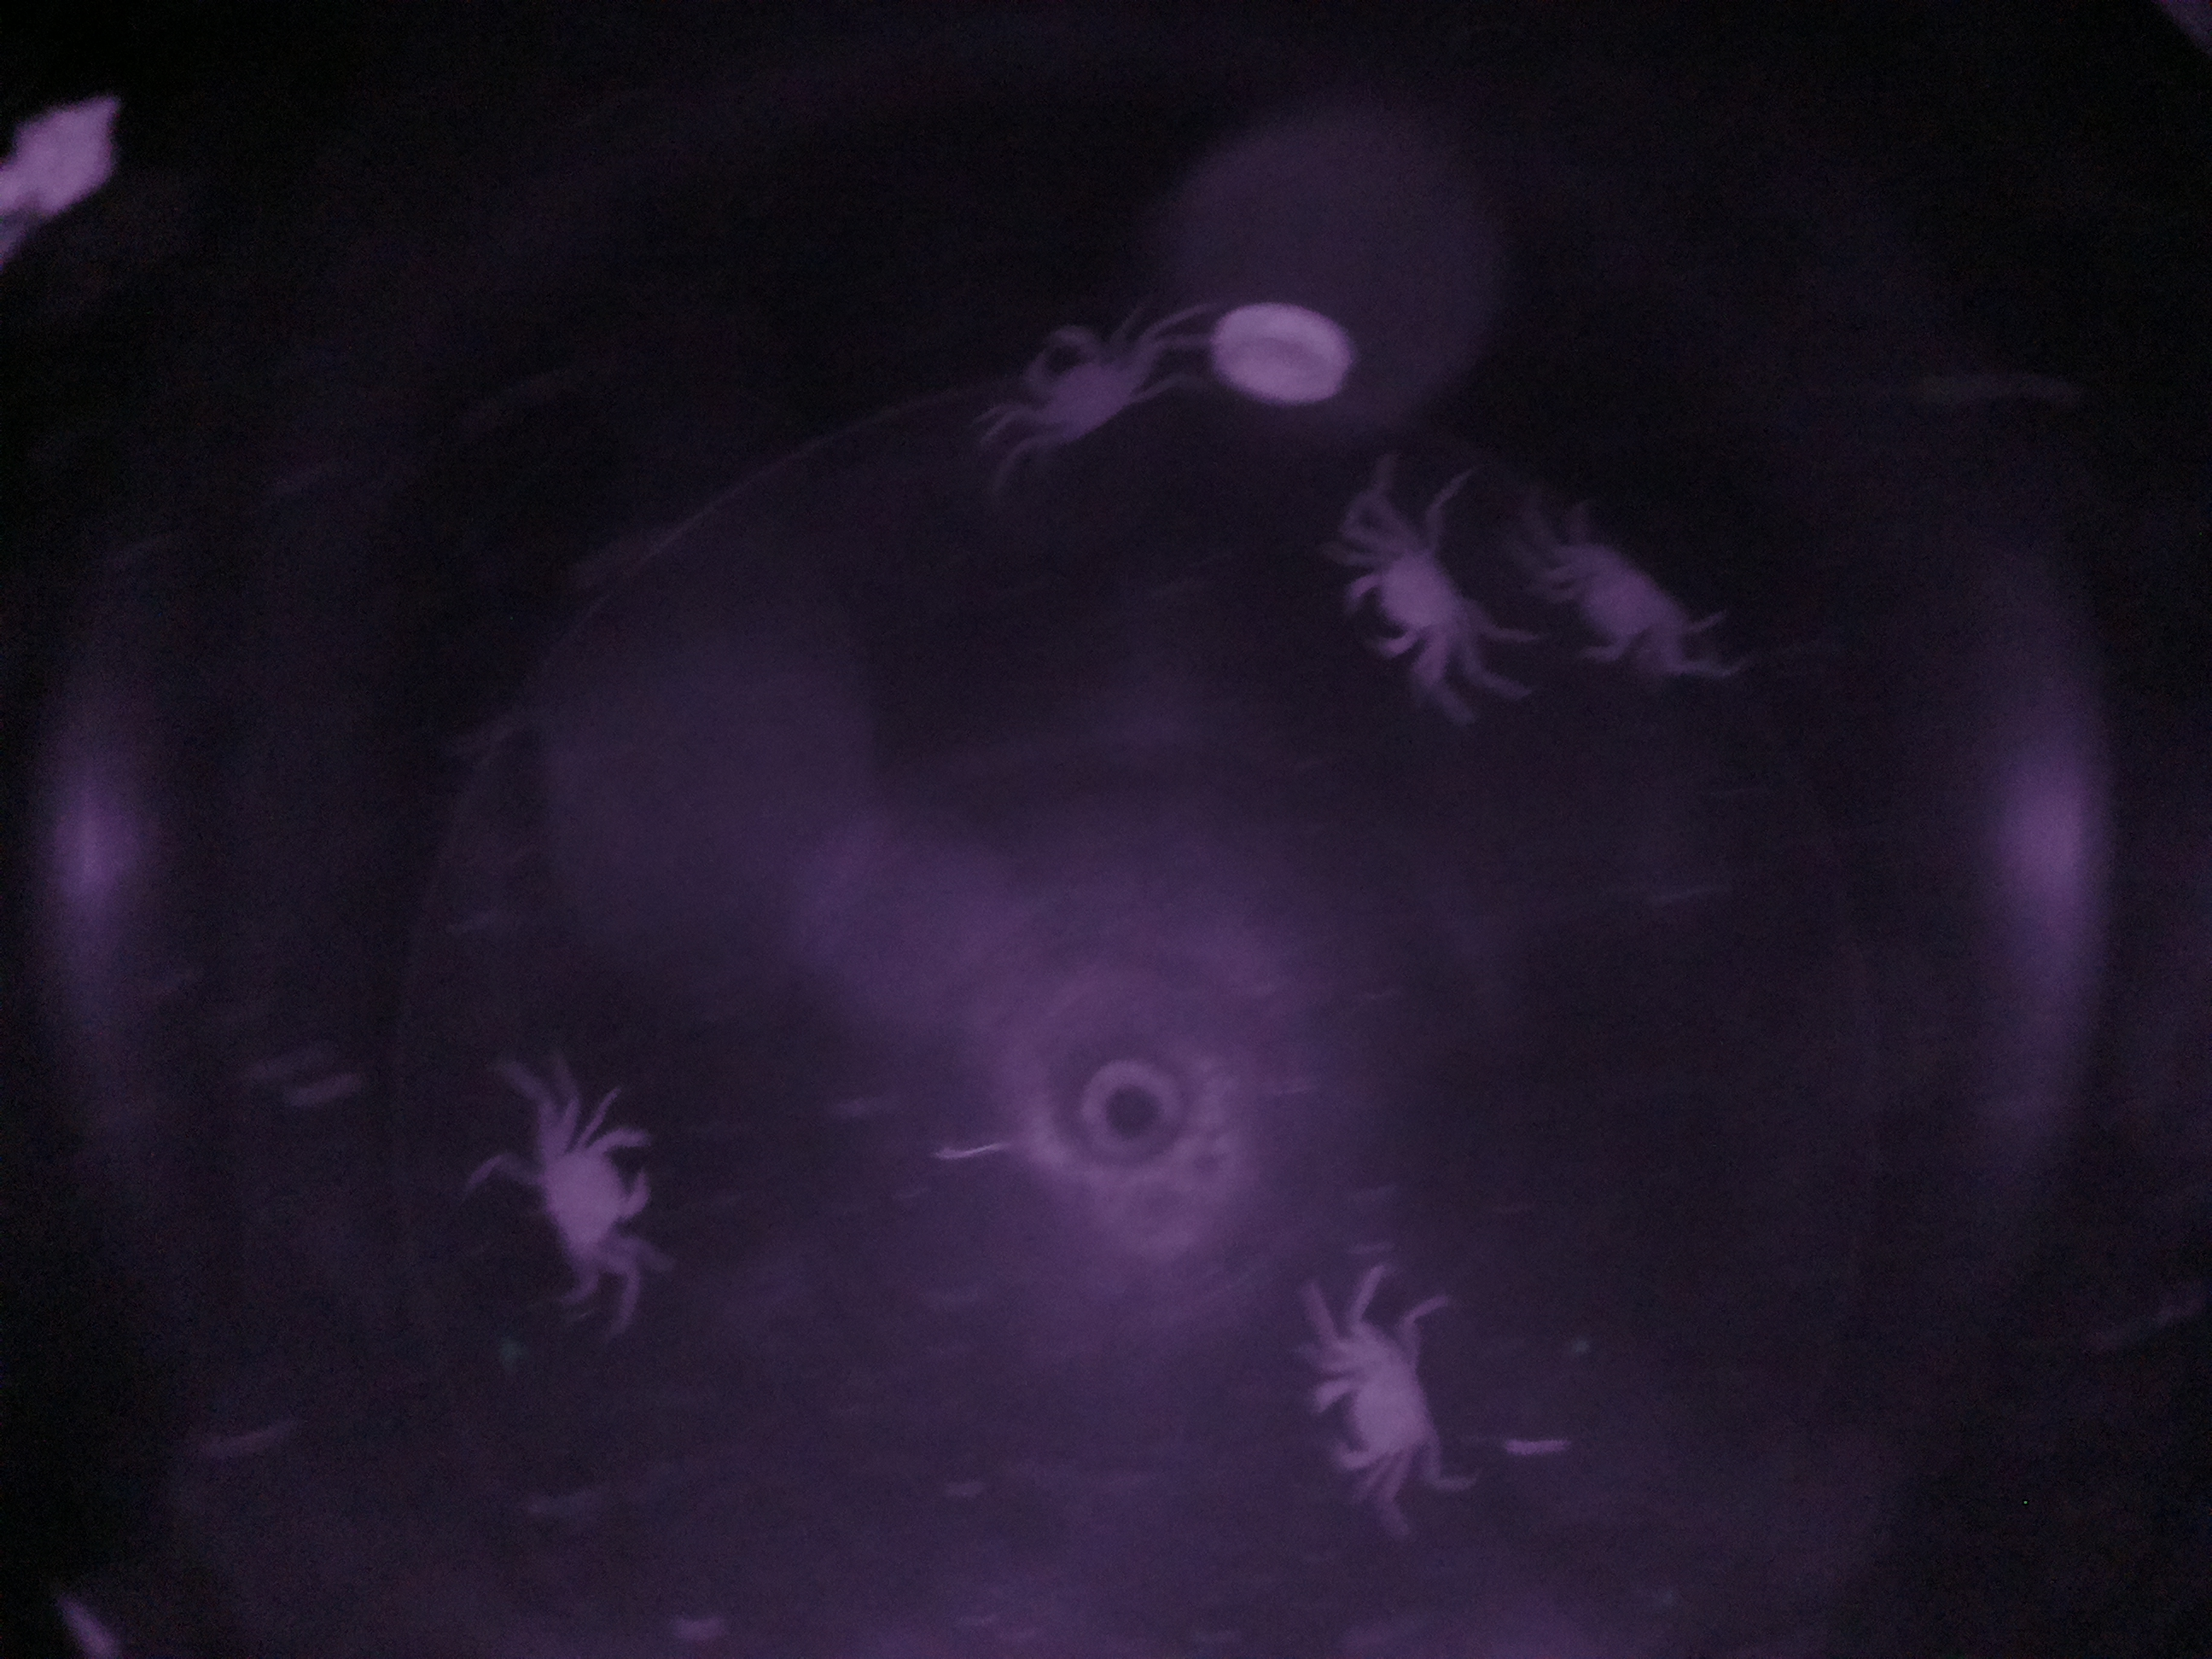Crab: (1287, 1312, 1463, 1509), (512, 1103, 664, 1307)
